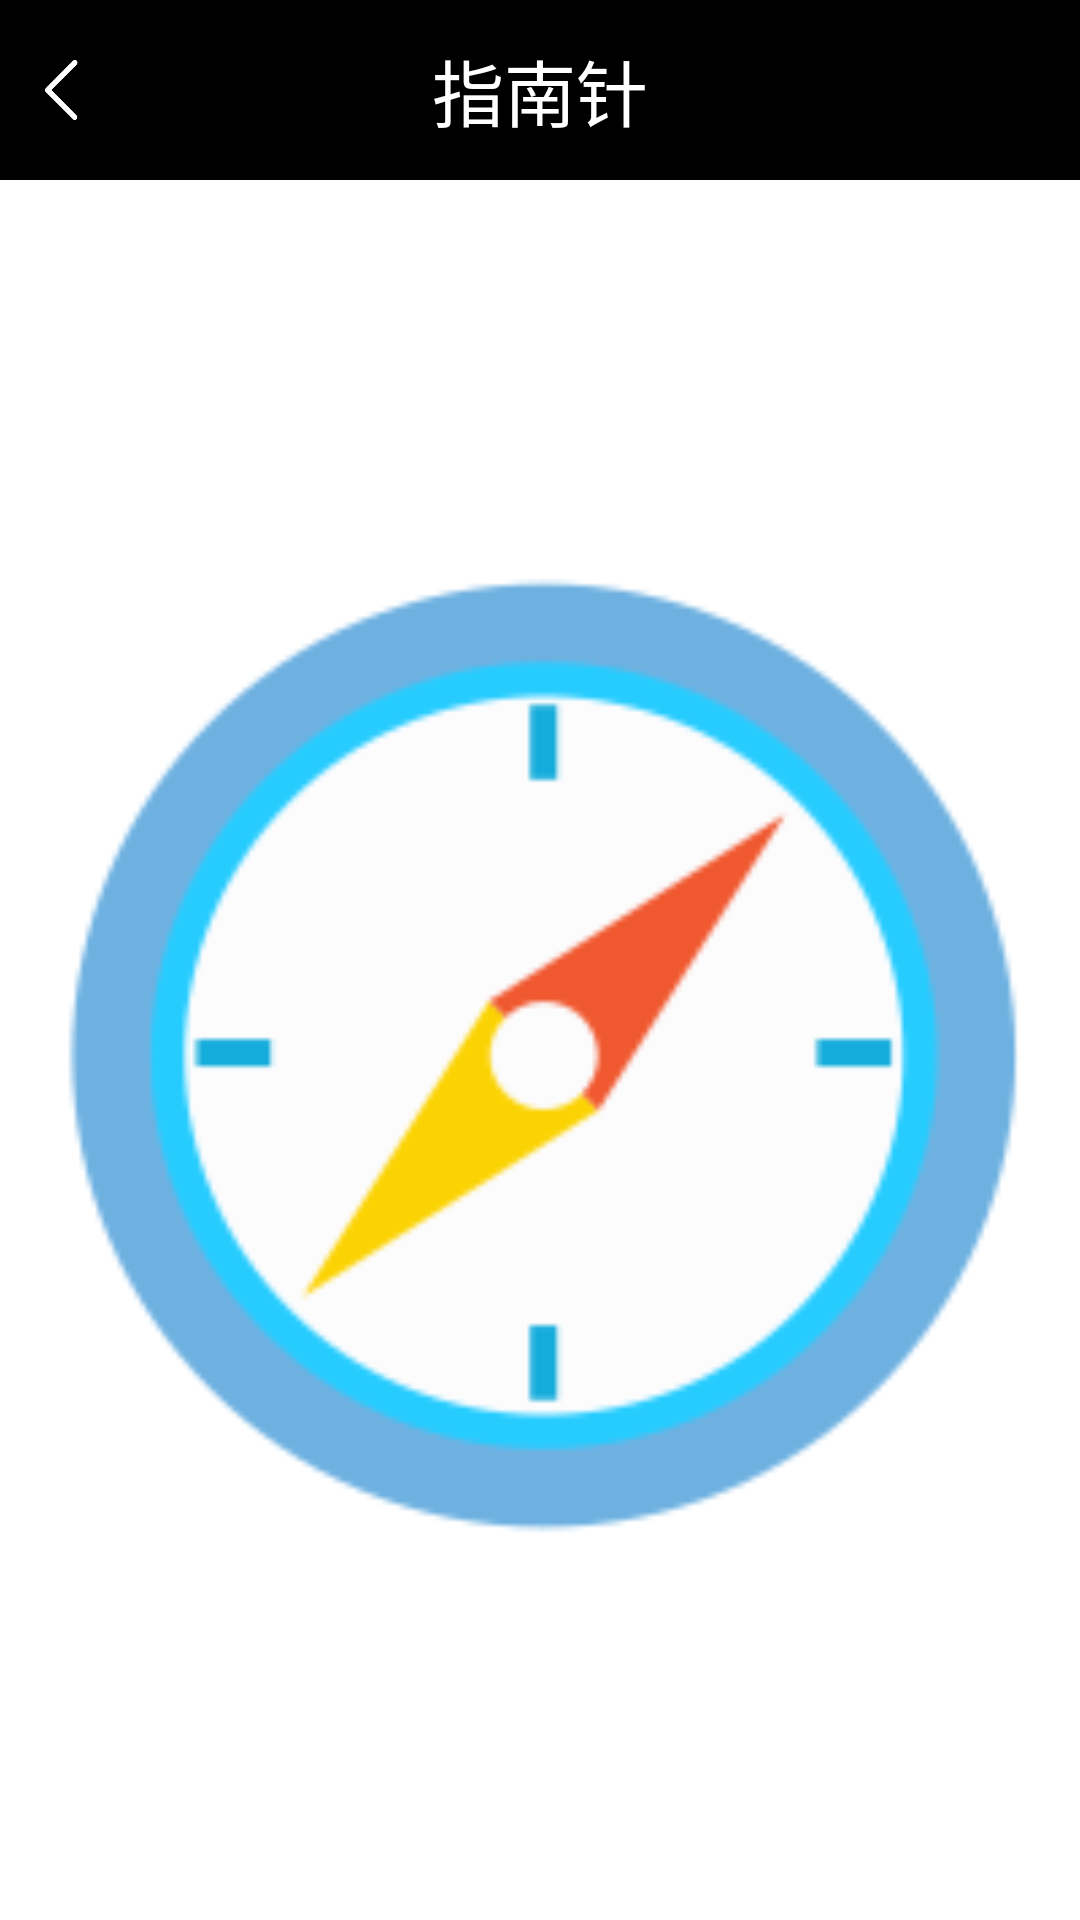

Icons on this 1080*1920 Android screen, each with its box as Rect(x1, y1, x2, y2):
back: Rect(45, 60, 78, 120)
